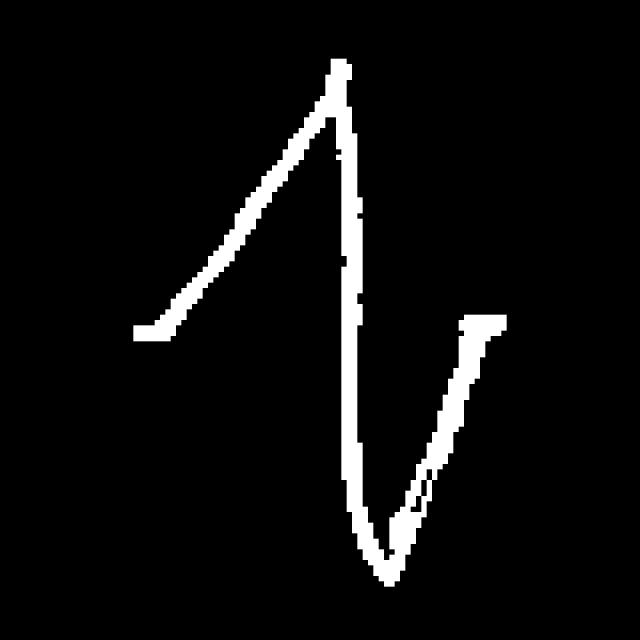resistor: (163, 39, 485, 600)
